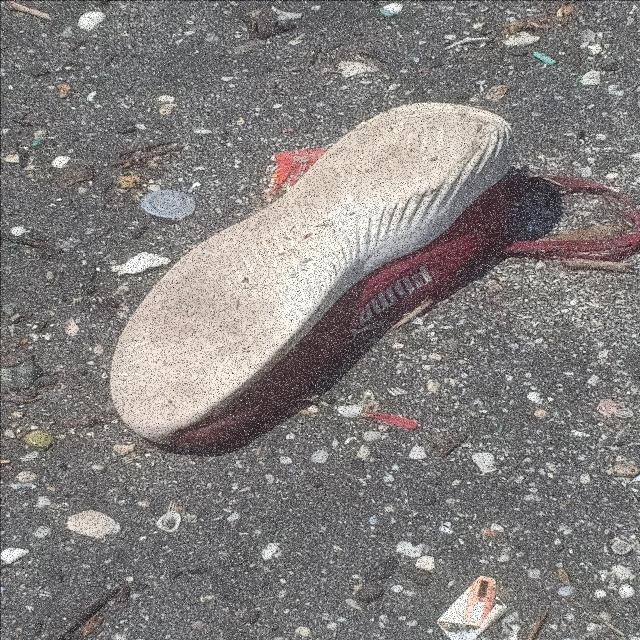rubber_waste: (109, 101, 518, 453)
